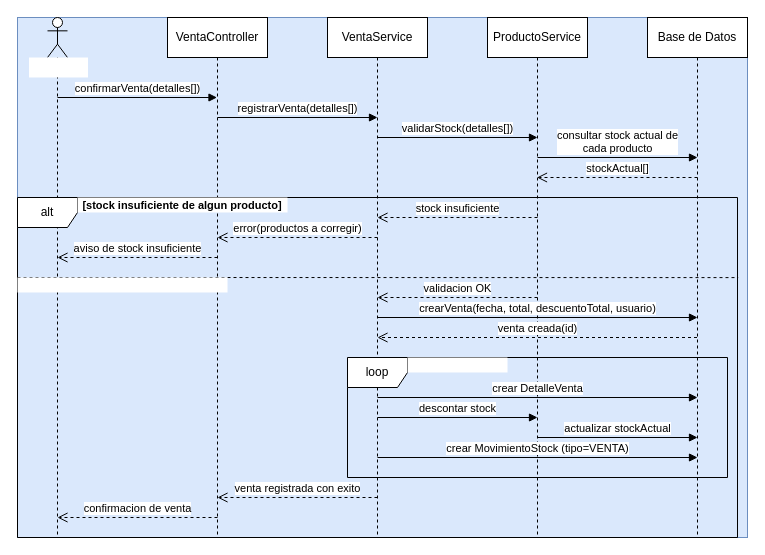
Some shapes in this 765 by 555 pixel diagram are drawn without their labels. Each missing label, with the centre of its shape:
[por cada detalle]: (x=457, y=364)
[stock suficiente para cada producto]: (x=122, y=284)
Usuario: (x=58, y=67)
